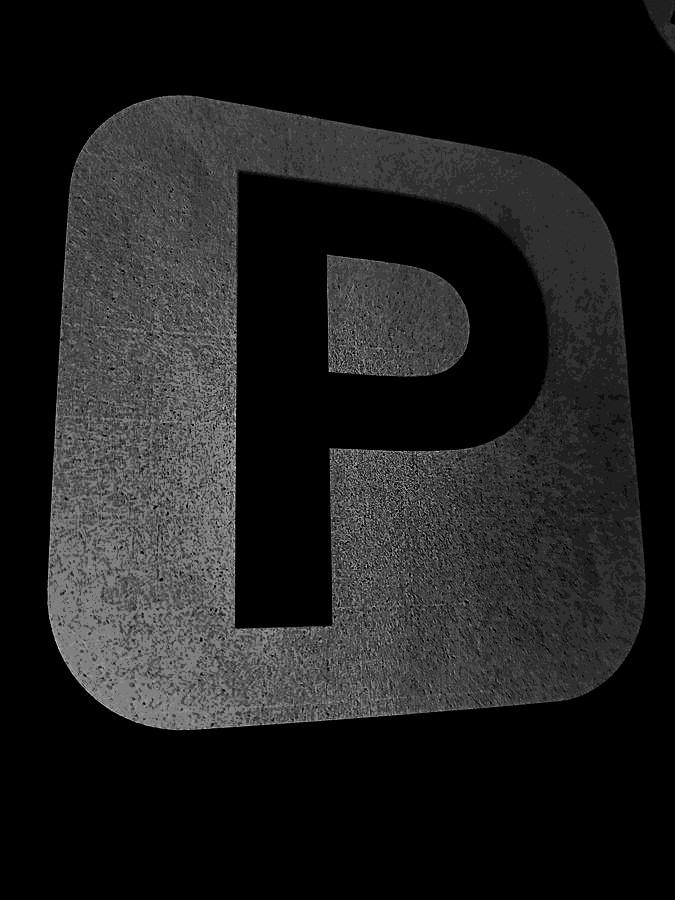parking: (47, 90, 652, 738)
